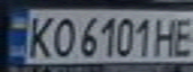0: (115, 15, 136, 57)
1: (97, 14, 118, 57), (133, 15, 154, 57)
6: (75, 14, 100, 57)
E: (169, 15, 193, 57)
H: (151, 14, 181, 57)
K: (21, 12, 57, 60)
O: (48, 14, 78, 58)
